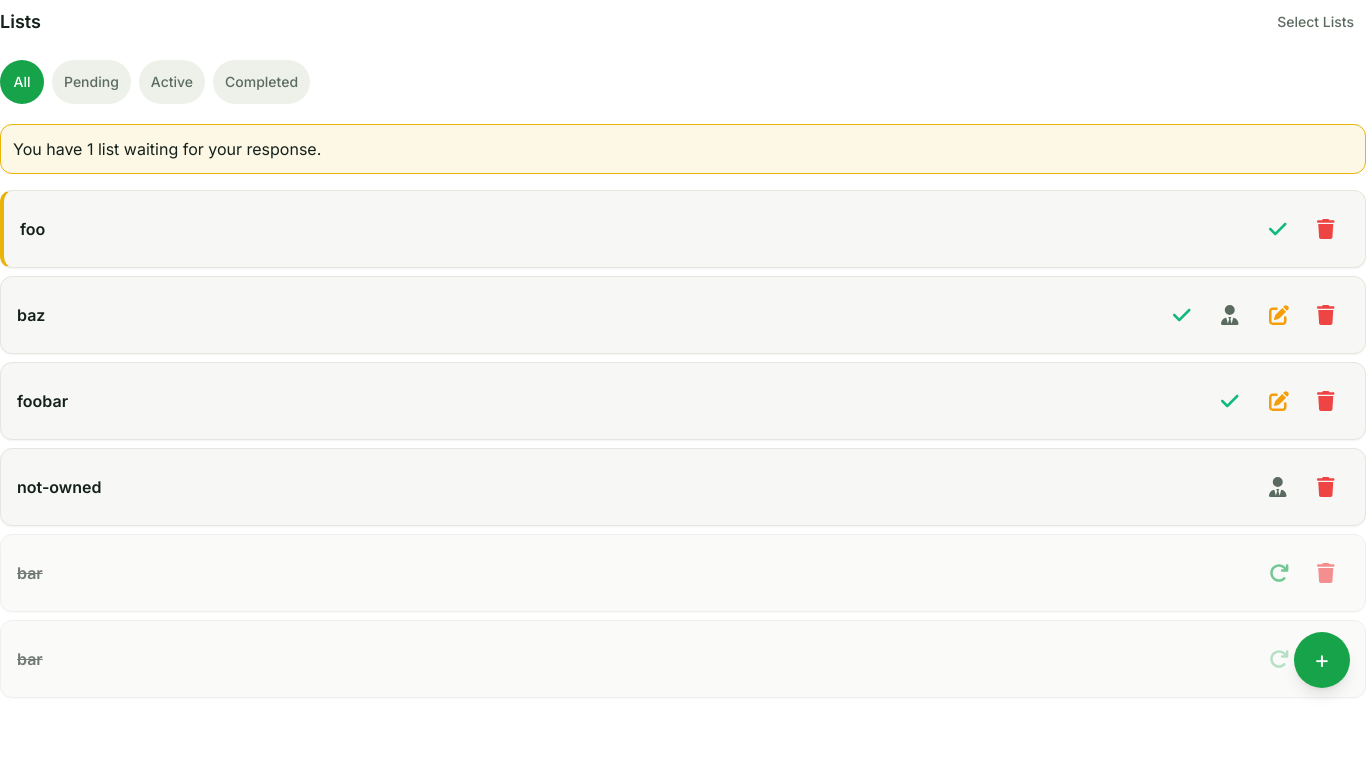
ListsContainer › creates list via create modal
Click the button with test id "lists-create-fab". click: click(1322, 660)
box: [1294,632,1350,688]
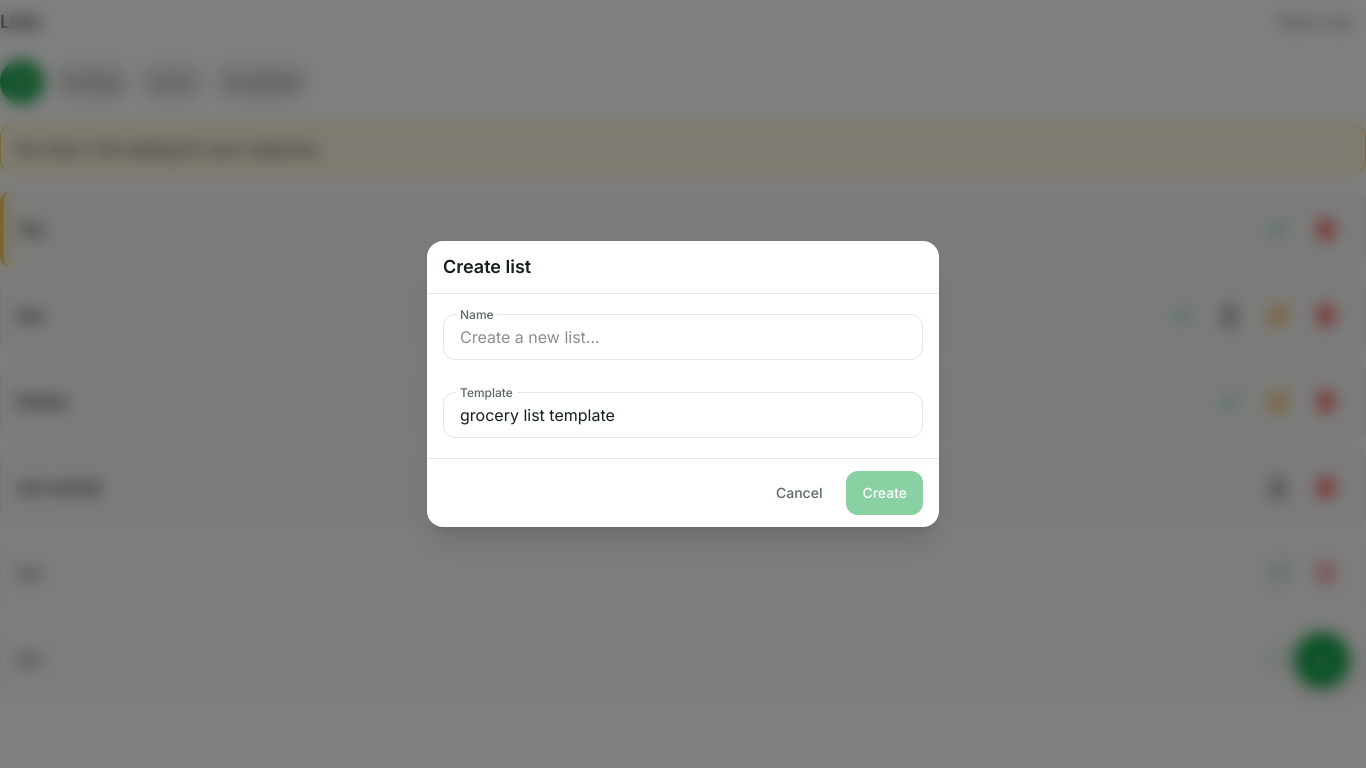
Expected: the element with test id "create-list-modal" is shown, [427,241,939,527]
Click the field with test id "create-list-name-input". click: click(683, 337)
box: [444,315,922,359]
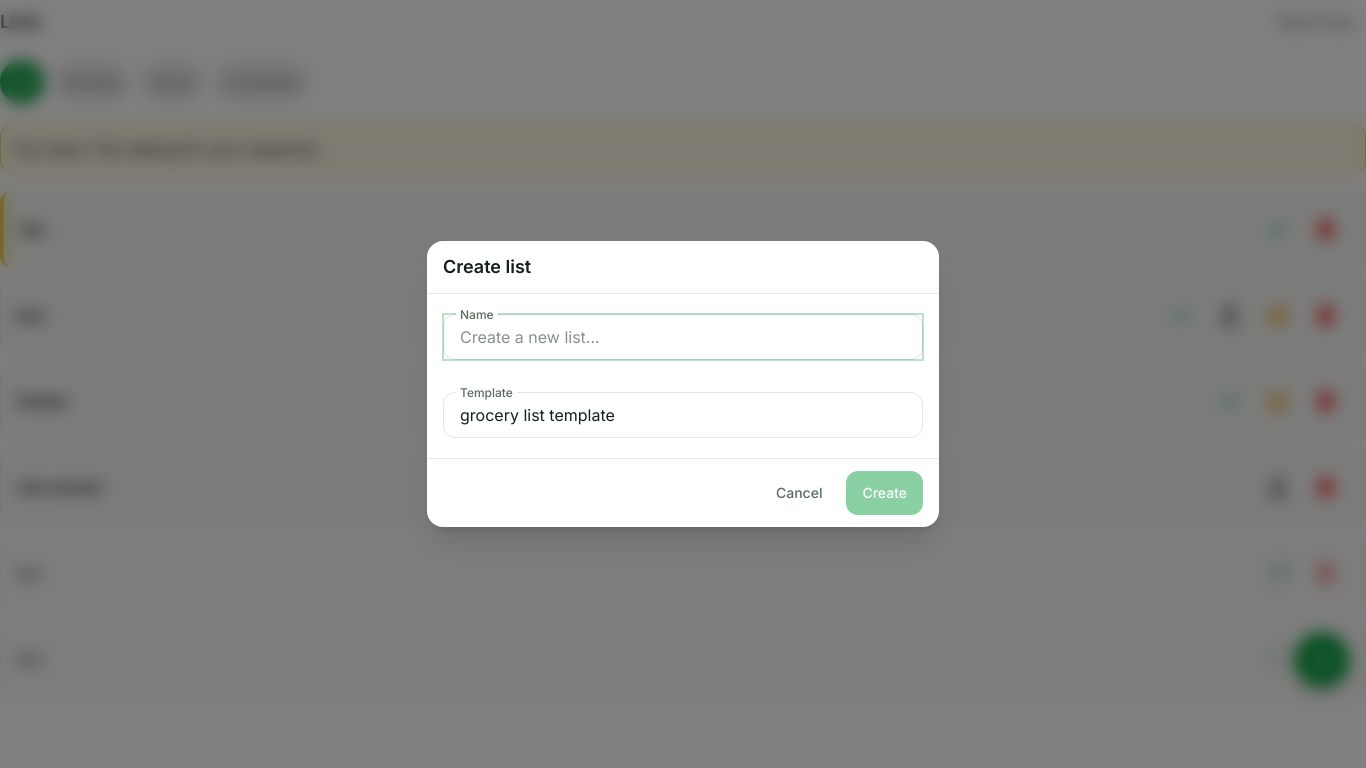
Type keys "new list"
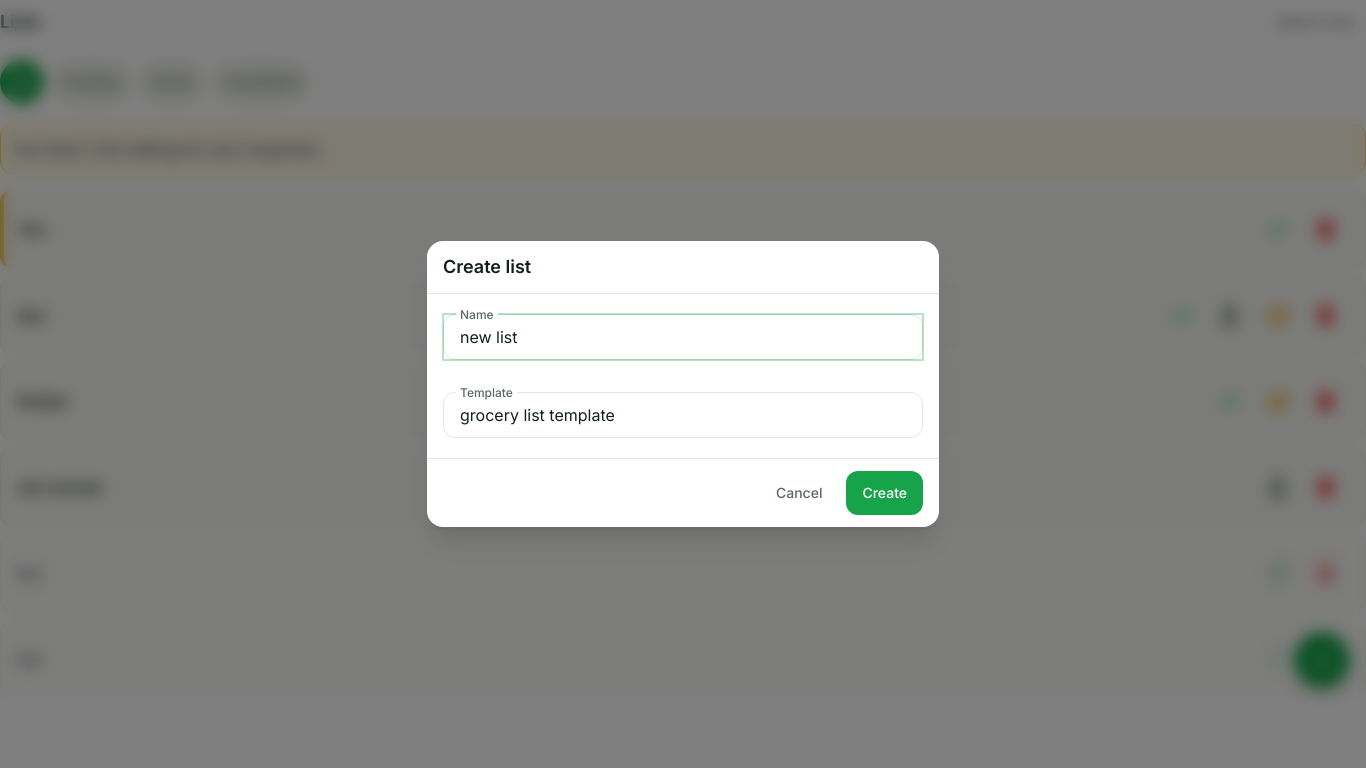
Click the button with test id "create-list-submit". click: click(885, 493)
box: [846,471,923,515]
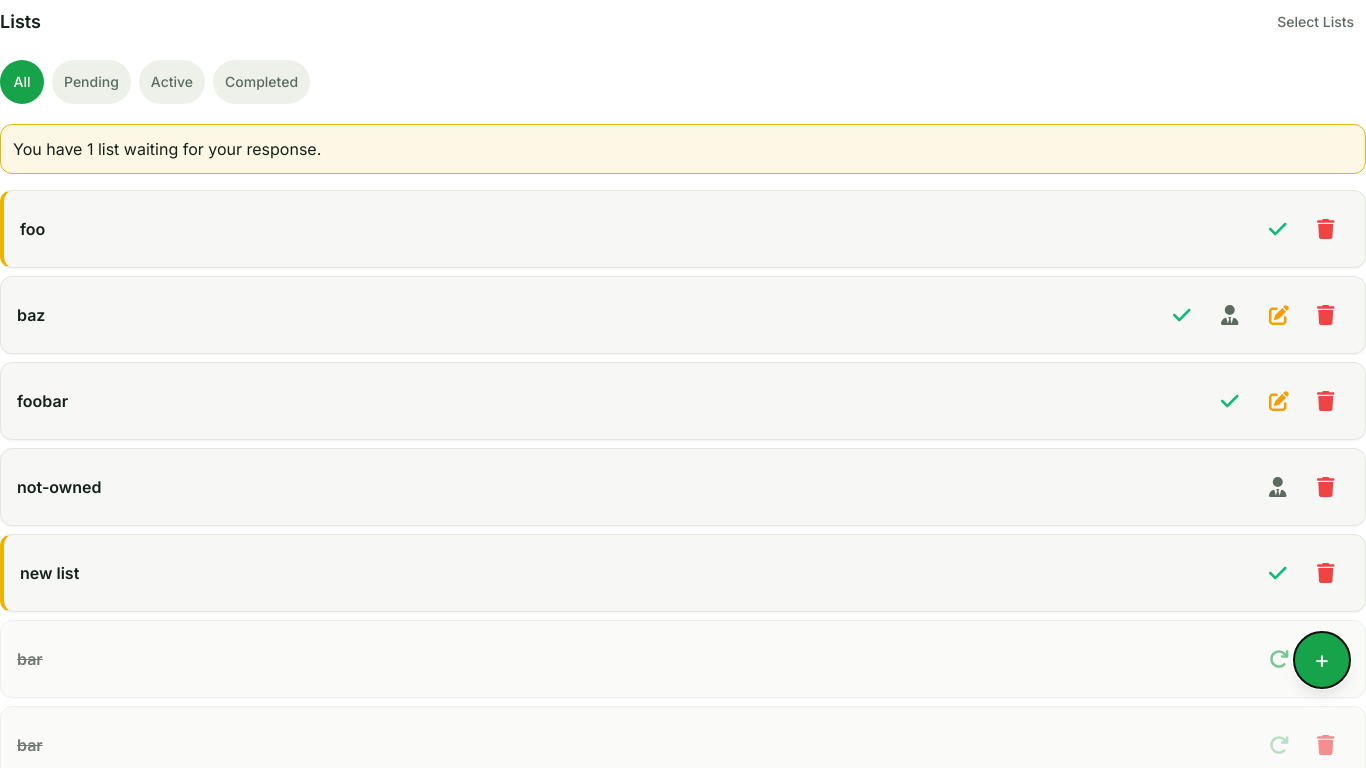
Expected: the button with test id "list-id8" reads "new list", [0,534,1365,612]
Expected: the element with test id "create-list-modal" is gone
